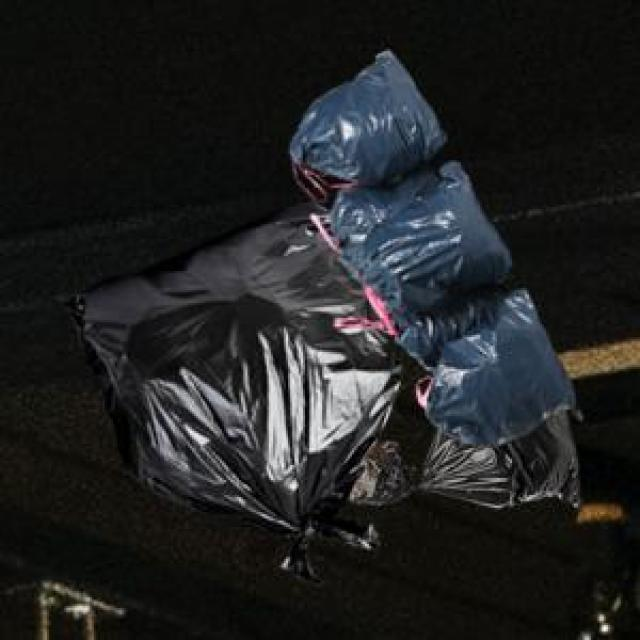Vinyl: (330, 166, 523, 302), (420, 282, 582, 442), (294, 50, 451, 190)
